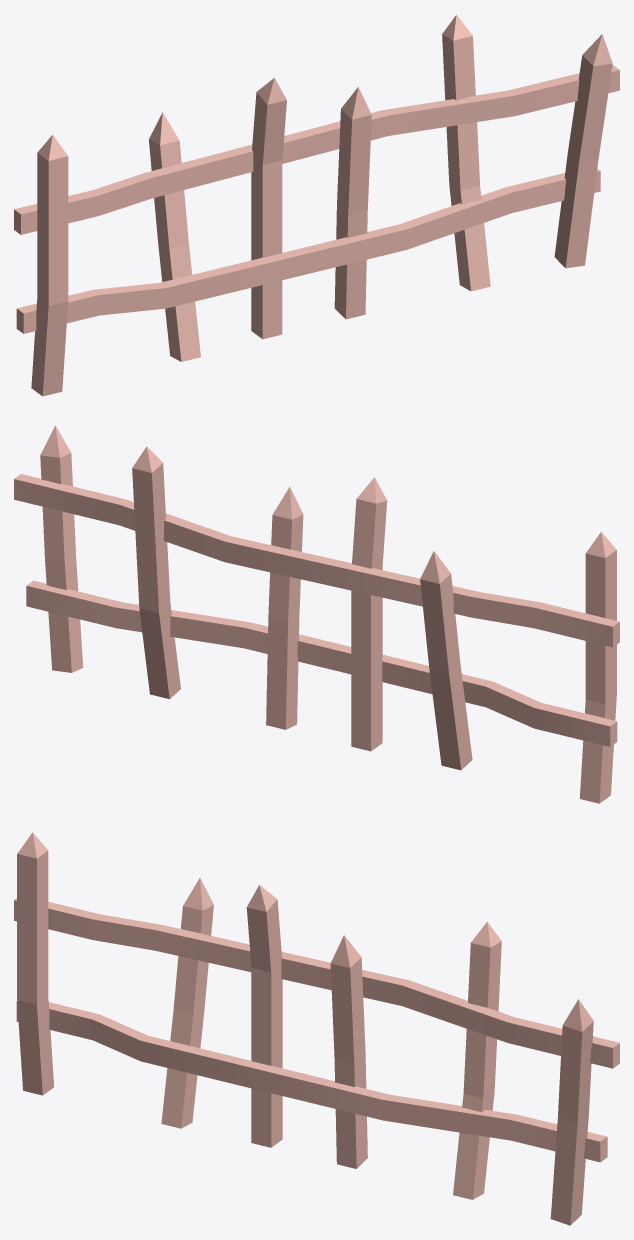
Rendered from Mega_Asset_s_Pack_Cube_243.FBX.
The picture shows the model from 3 angles, top to bottom: view 1: azimuth 30°, elevation 25°; view 2: azimuth 150°, elevation 25°; view 3: azimuth 330°, elevation 25°; orthographic projection.
Parts seen in each view (by area): view 1: Mega_Asset_s_Pack_Cube_243; view 2: Mega_Asset_s_Pack_Cube_243; view 3: Mega_Asset_s_Pack_Cube_243.
Part boxes in pixels (x1=…): Mega_Asset_s_Pack_Cube_243: x1=14, y1=15, x2=619, y2=396; Mega_Asset_s_Pack_Cube_243: x1=14, y1=425, x2=619, y2=803; Mega_Asset_s_Pack_Cube_243: x1=14, y1=832, x2=619, y2=1225.
Size of what is drawn, in the model's own units: 392 by 44.47 by 165.
